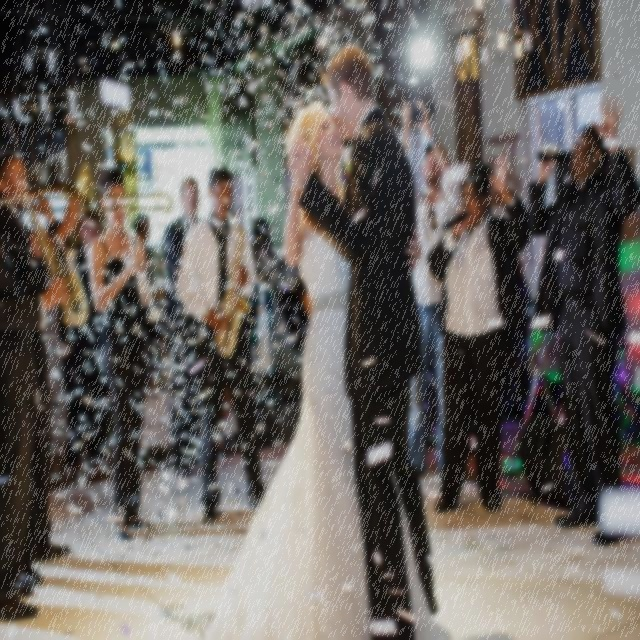pessoa: (195, 94, 442, 640), (284, 41, 439, 640), (526, 91, 639, 551), (426, 152, 534, 512), (0, 152, 87, 590), (175, 163, 266, 524), (86, 164, 168, 544), (397, 97, 453, 473), (1, 236, 51, 621), (30, 198, 76, 490), (245, 216, 308, 421), (164, 178, 204, 476), (66, 205, 110, 472), (135, 210, 157, 386)
